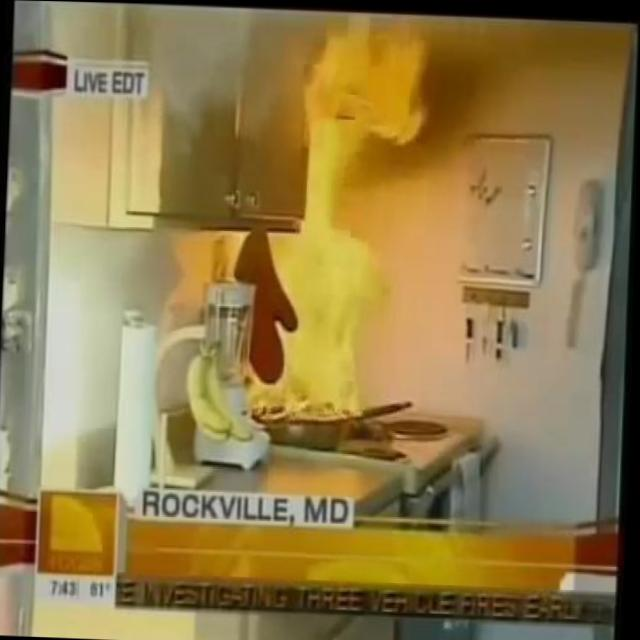fire: (244, 6, 436, 427)
